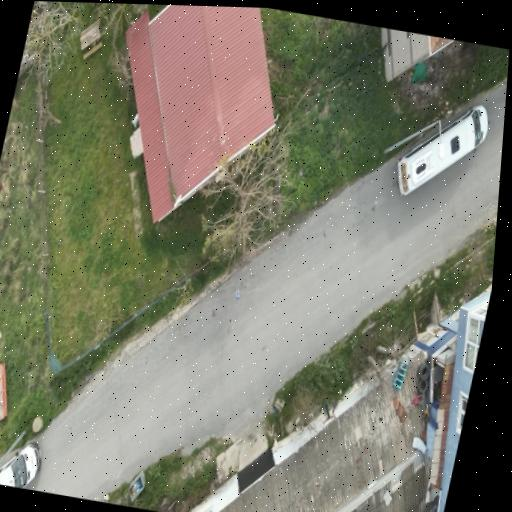car: (396, 105, 488, 194), (0, 442, 40, 488)
